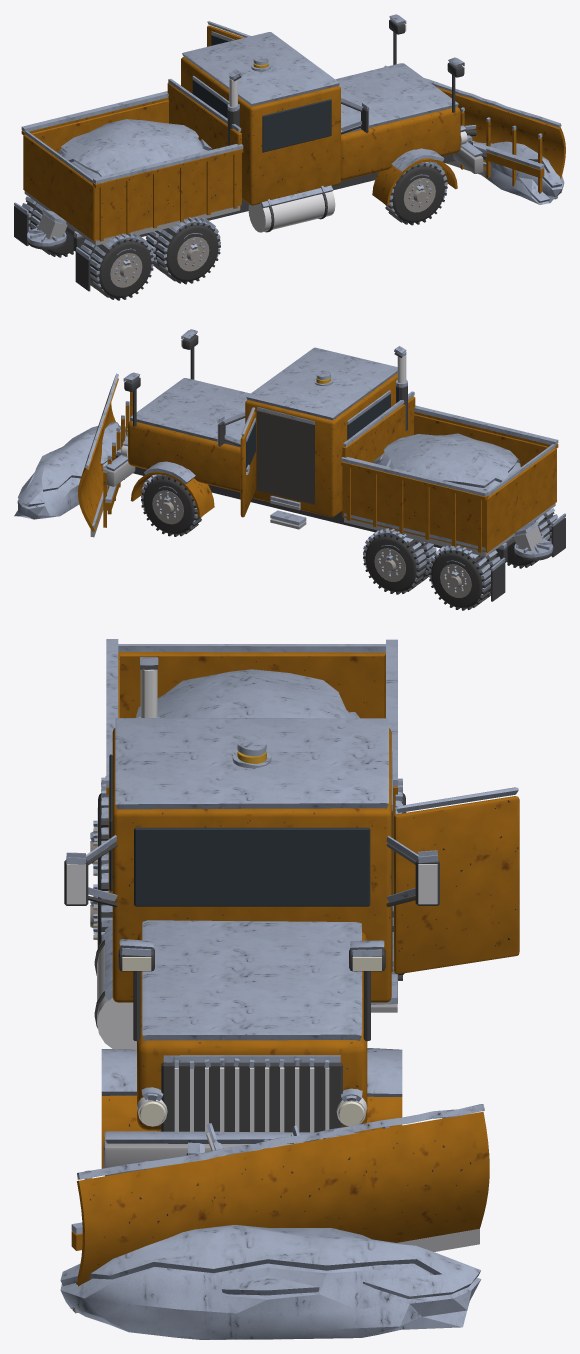
File: snowplow.glb
3 renders of one model, top to bottom at view 1: azimuth 30°, elevation 25°; view 2: azimuth 150°, elevation 25°; view 3: azimuth 270°, elevation 25°, orthographic. The views are drawn at different scales.
Visible parts, largest first — view 1: Snowplow; view 2: Snowplow; view 3: Snowplow.
Boxes of the visible parts, box(x1,y1,x2,y2) form: Snowplow: box(14, 14, 565, 300); Snowplow: box(14, 329, 565, 610); Snowplow: box(60, 639, 519, 1339).
Size of the model in its own units: 9.5 by 3.42 by 3.79.
Materials: 11 (2 with a texture image).
